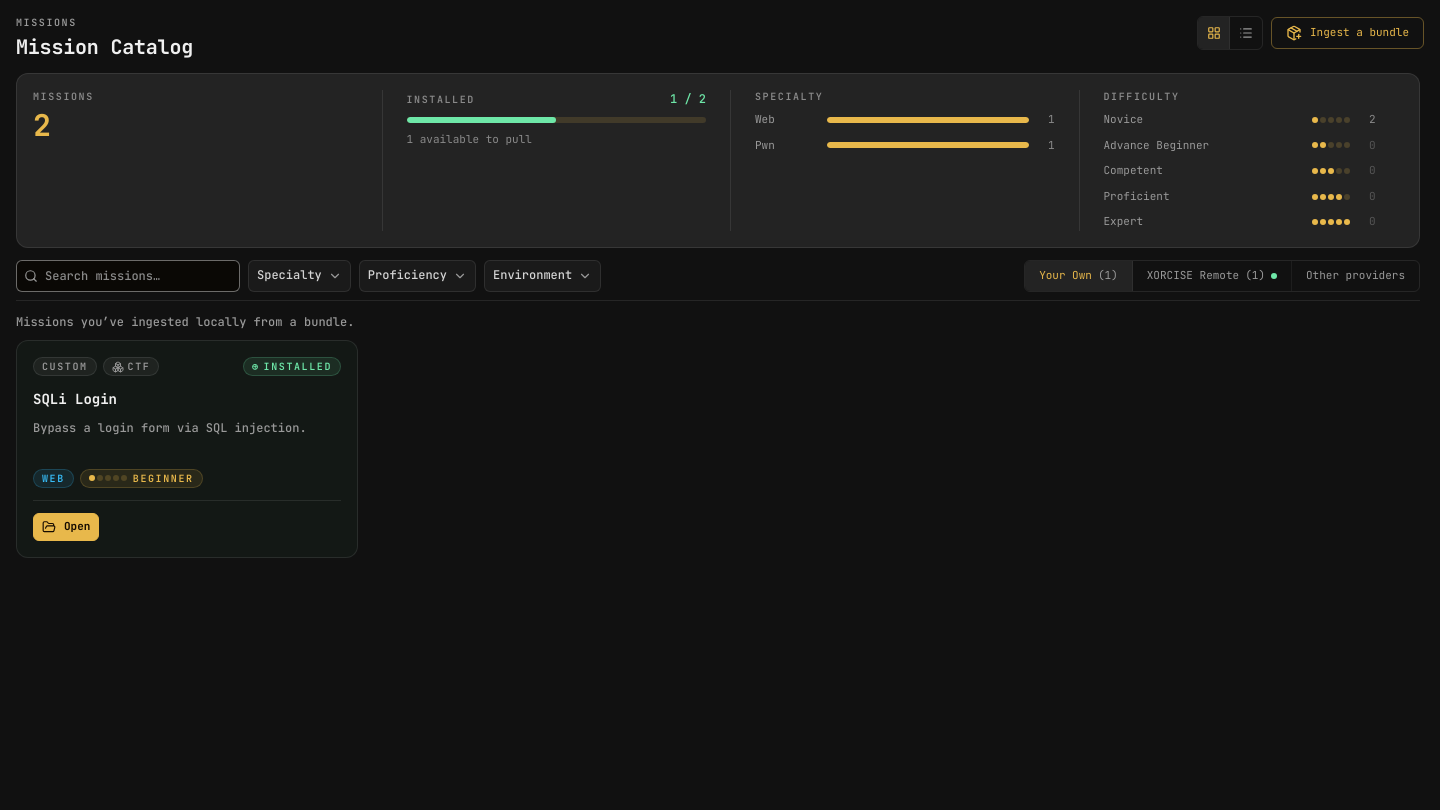
Test: MissionCatalog › presents Other providers as the house coming-soon preview, not an empty-results box
Click the tab "Other providers".
click(1356, 276)  # box [1292, 261, 1419, 291]
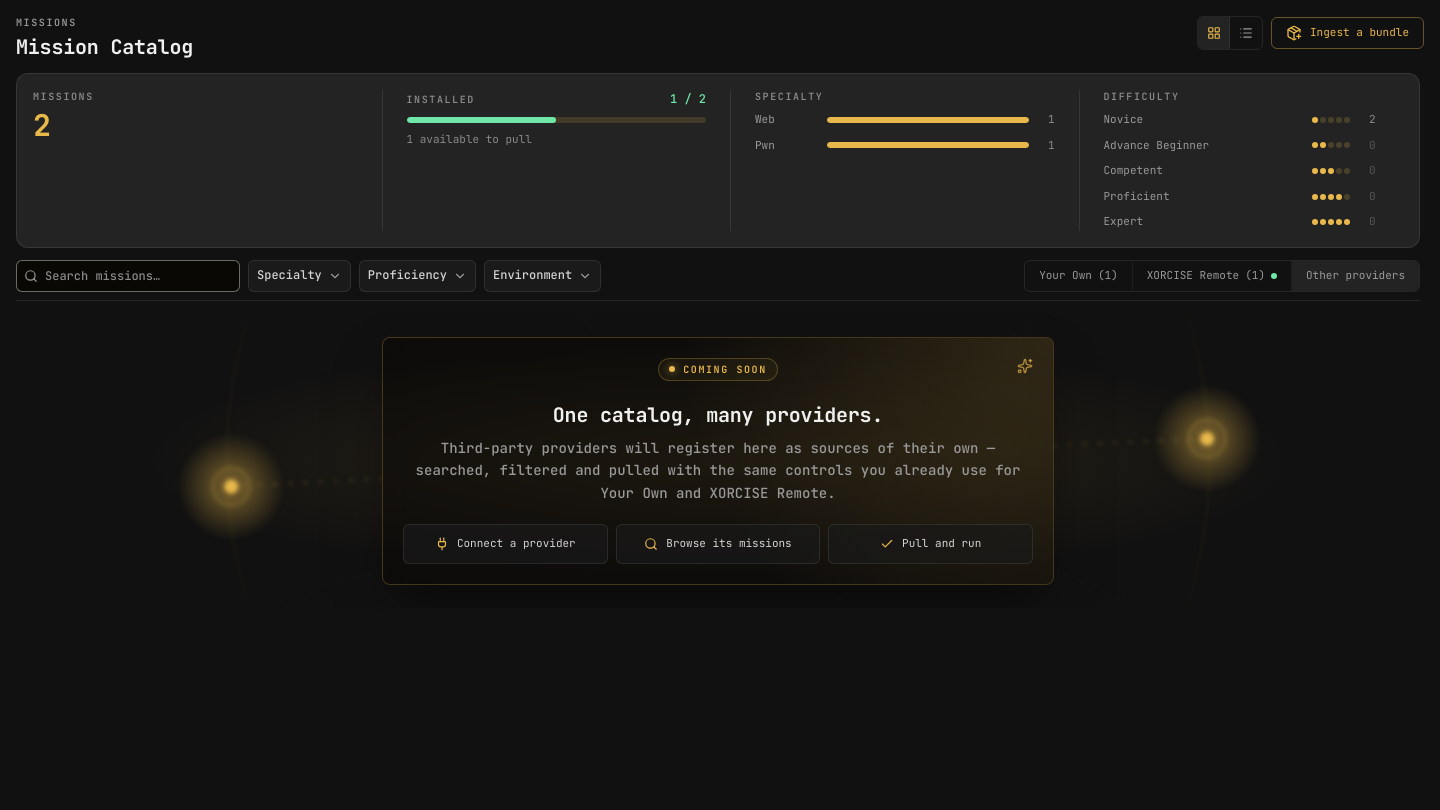
Now the heading "One catalog, many providers." is shown, box [553, 402, 883, 428]
Now the text "Coming soon" is shown, box [658, 358, 778, 381]
Now the text "Connect a provider" is shown, box [457, 535, 576, 553]
